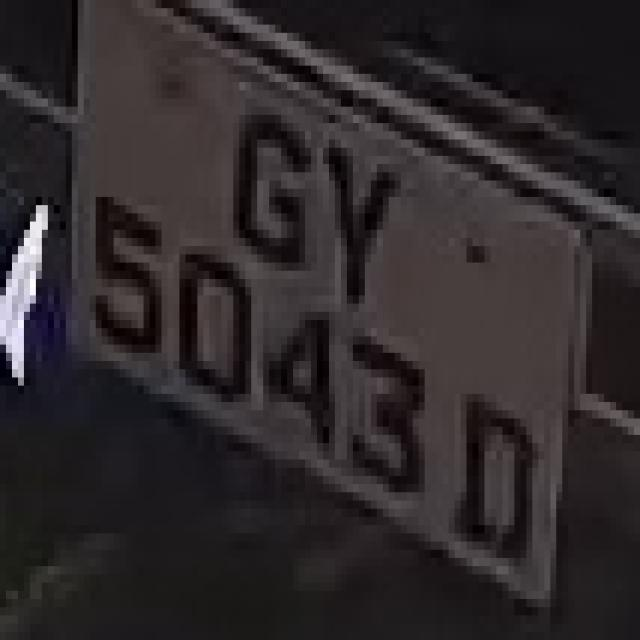0: (162, 222, 257, 426)
3: (329, 320, 425, 517)
4: (233, 238, 335, 468)
5: (72, 172, 167, 361)
D: (437, 386, 544, 632)
G: (209, 90, 335, 287)
Y: (293, 131, 395, 328)
